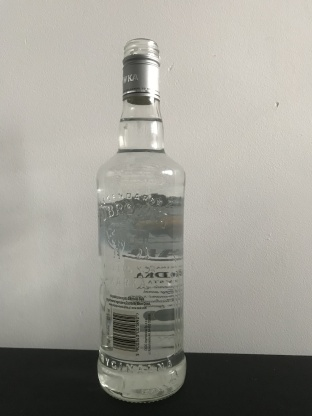nakretka: (119, 37, 163, 105)
